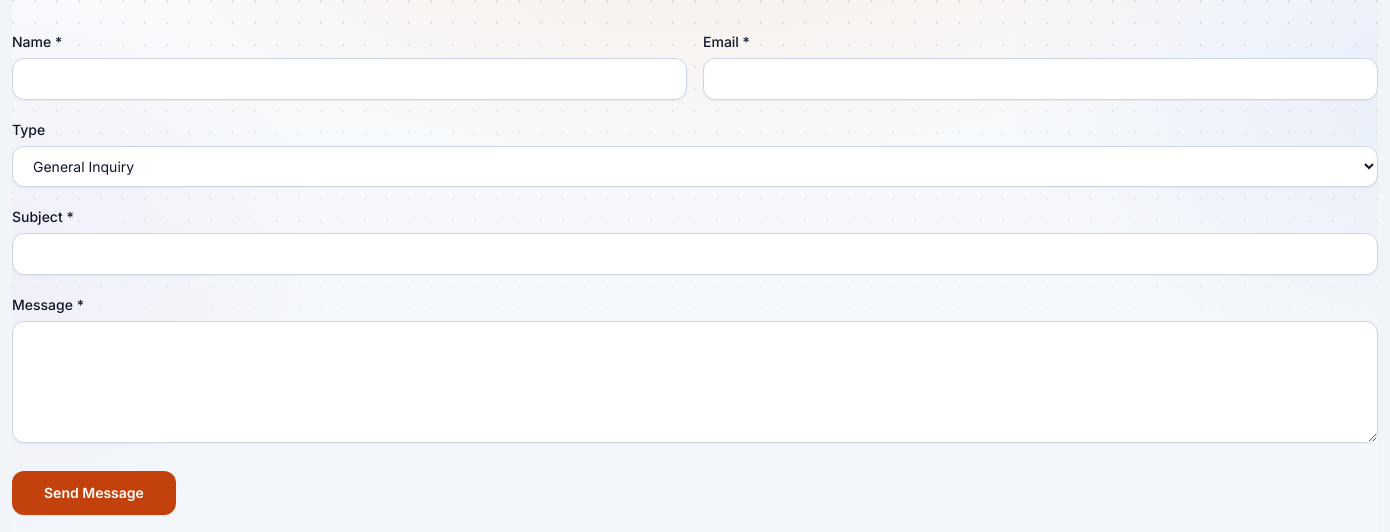
ContactForm › submits form and shows success
Type "John Doe" into the field labelled "Name *" at [350, 79], box [12,58,687,100]
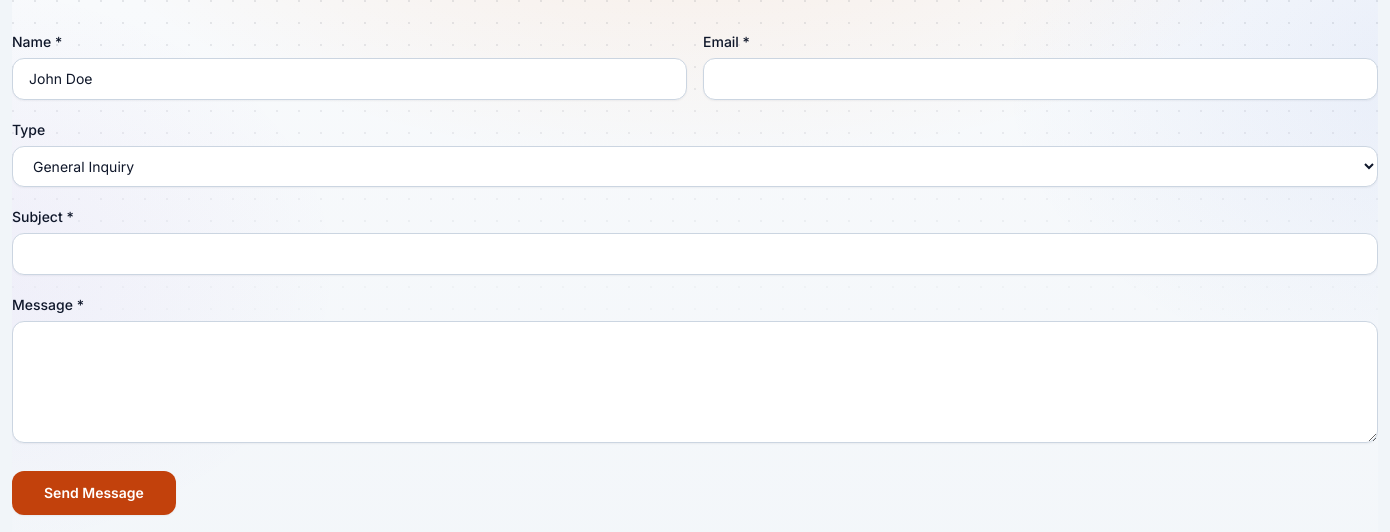
Type "john@test.com" into the field labelled "Email *" at [1040, 79], box [703,58,1378,100]
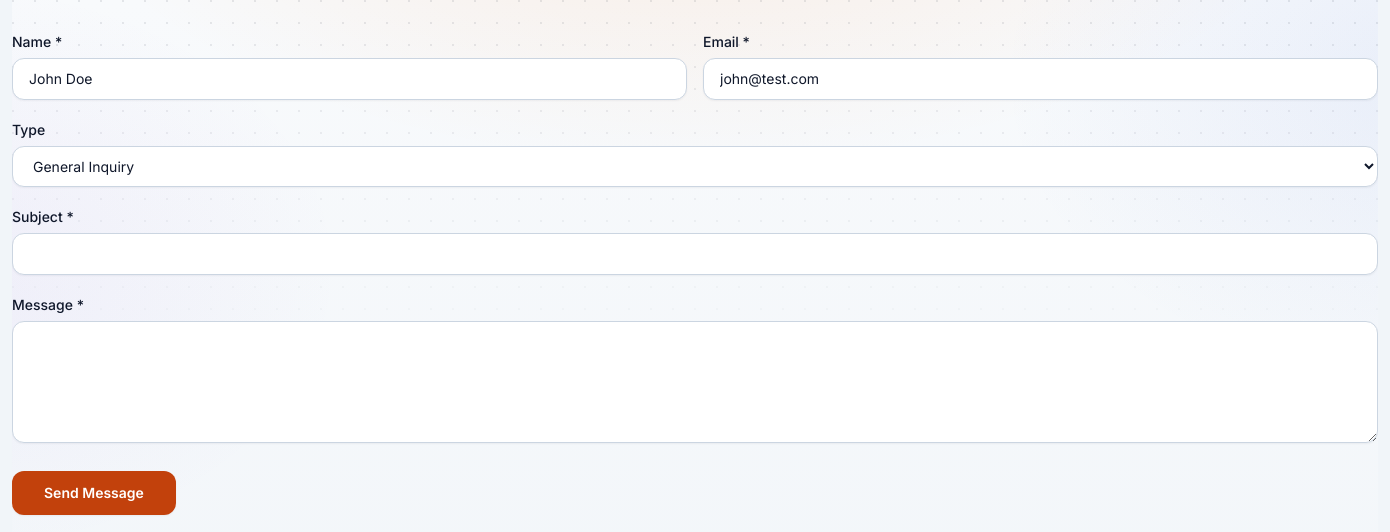
Type "Test Subject" into the field labelled "Subject *" at [695, 254], box [12,233,1378,275]
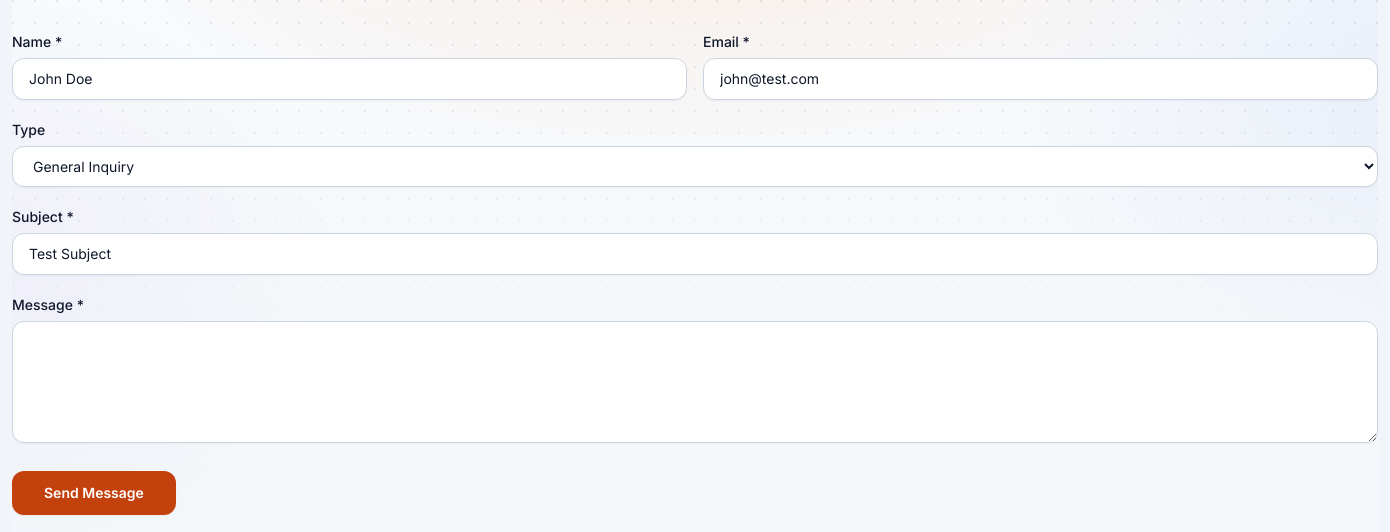
Type "Hello, I need help" into the text box labelled "Message *" at [695, 382], box [12,321,1378,443]
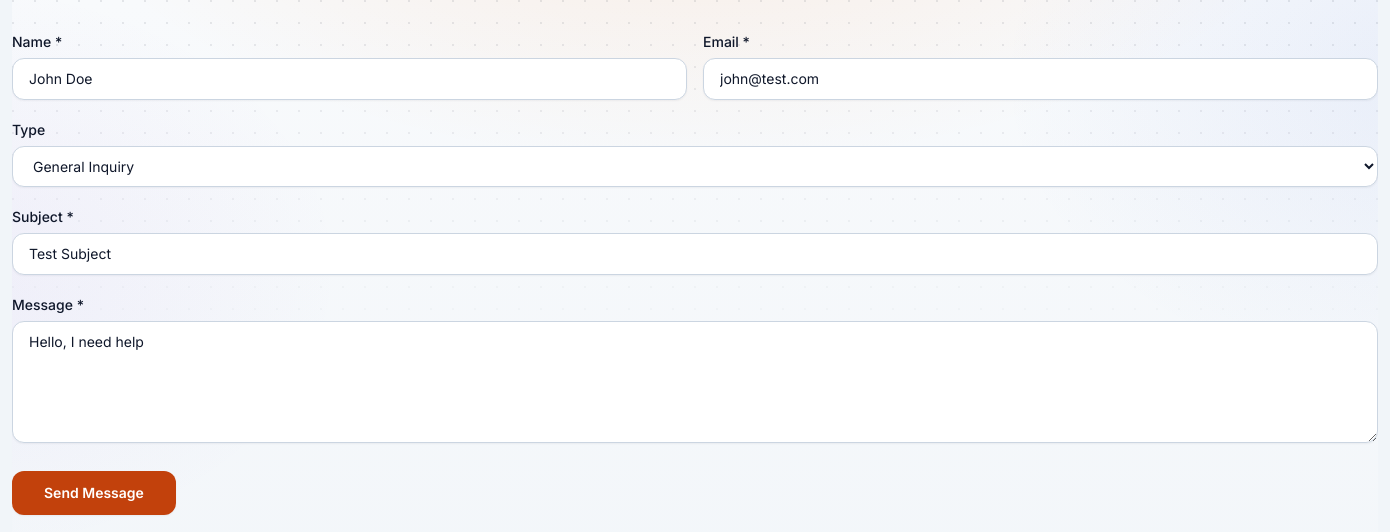
Submit the form
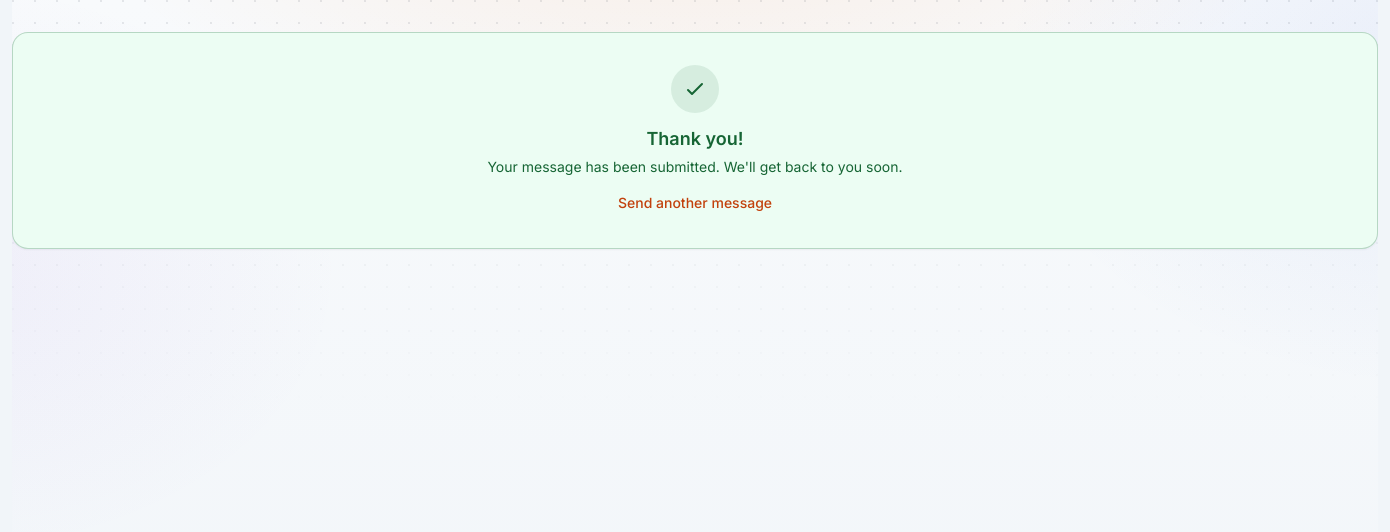
Check: the text "Thank you!" is shown, box [646,128,744,149]
